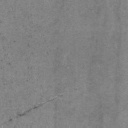finishing roll printing: (0, 94, 64, 124)
